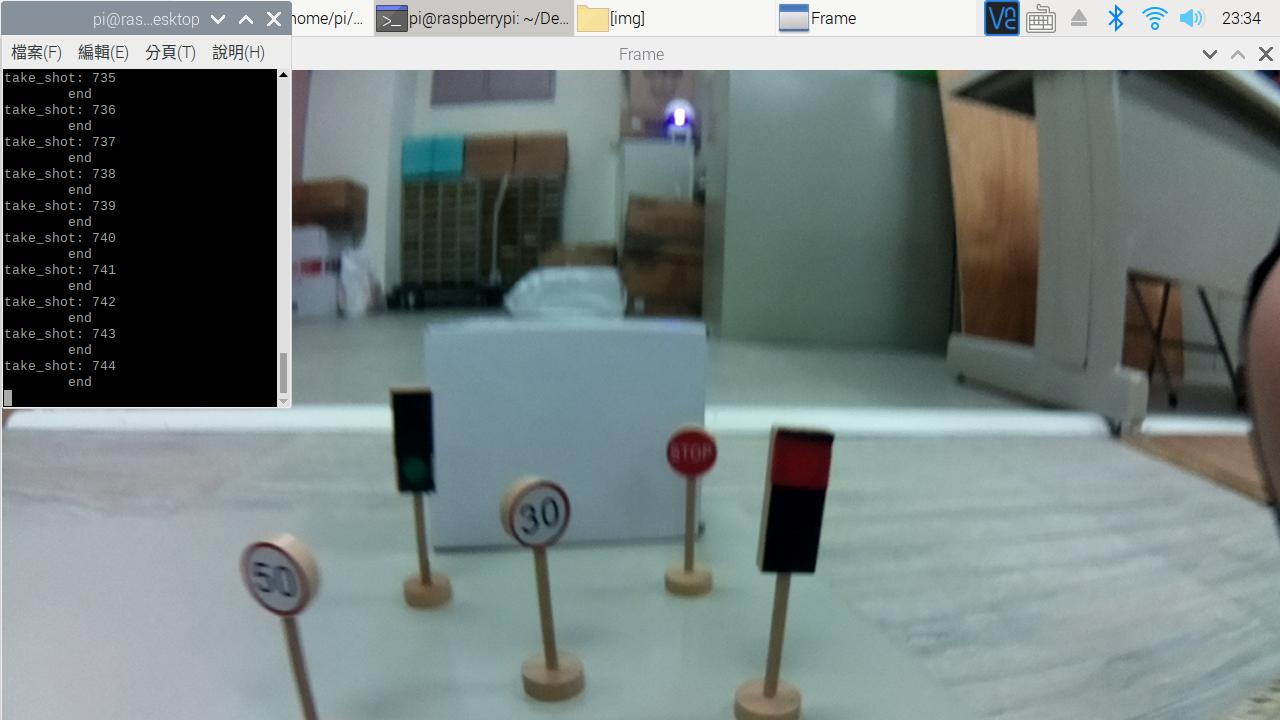Green: (377, 378, 453, 505)
Red: (748, 425, 851, 586)
Speed30: (490, 481, 587, 555)
Speed50: (224, 526, 340, 634)
Stop: (657, 420, 726, 485)
